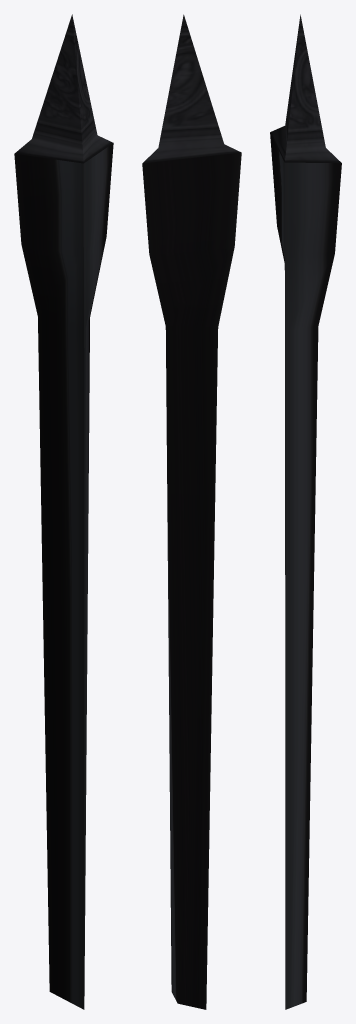
Rendered from PAST_GrandfatherClockHourHand.fbx.
3 renders of one model, left to right at view 1: azimuth 30°, elevation 25°; view 2: azimuth 210°, elevation 25°; view 3: azimuth 330°, elevation 25°, orthographic.
Visible parts, largest first — view 1: pCone9; view 2: pCone9; view 3: pCone9.
Part boxes in pixels (left/top/right/bottom): pCone9: left=14, top=14, right=113, bottom=1009; pCone9: left=142, top=14, right=241, bottom=1009; pCone9: left=270, top=14, right=341, bottom=1009.
Bounding box in the file's own units: 0.1842 × 2.03 × 0.102.
1 material, 1 textured.
